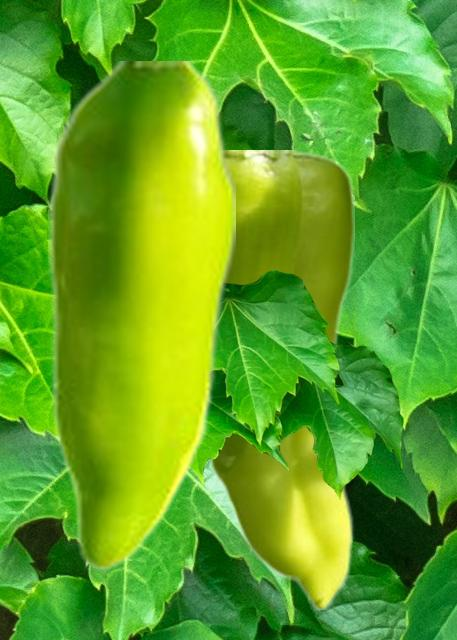green_chili: (48, 61, 234, 571), (206, 150, 353, 608)
